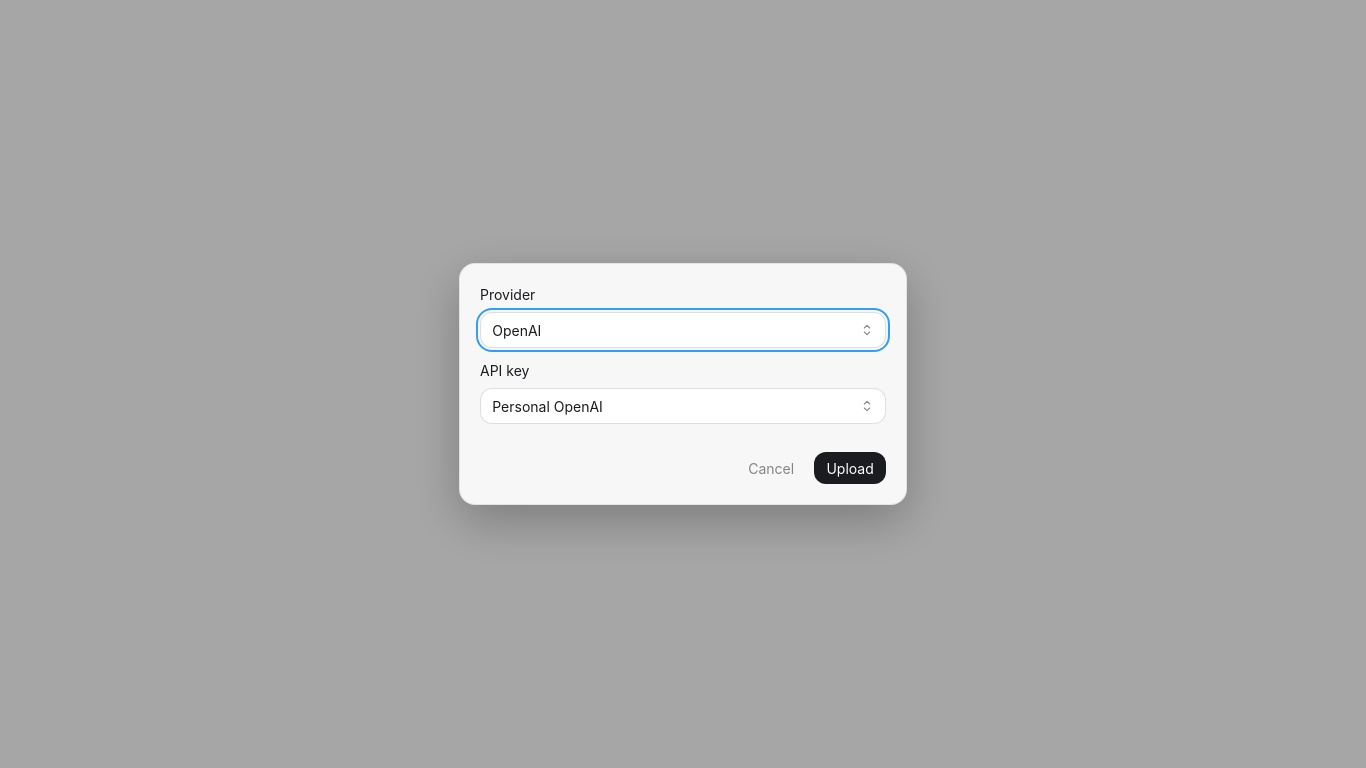
Test case: Folder store dialog › has an accessible name without a visible title and selects one key for either provider
This screenshot has width=1366, height=768.
Expected: the dialog named "Upload folder to store" does not show "Upload folder to store", 459,263 -> 907,505
Expected: the dropdown labelled "API key" shows "Personal OpenAI", 480,388 -> 886,424
Select "Google" in the dropdown labelled "Provider" at (683, 330), box 480,312 -> 886,348
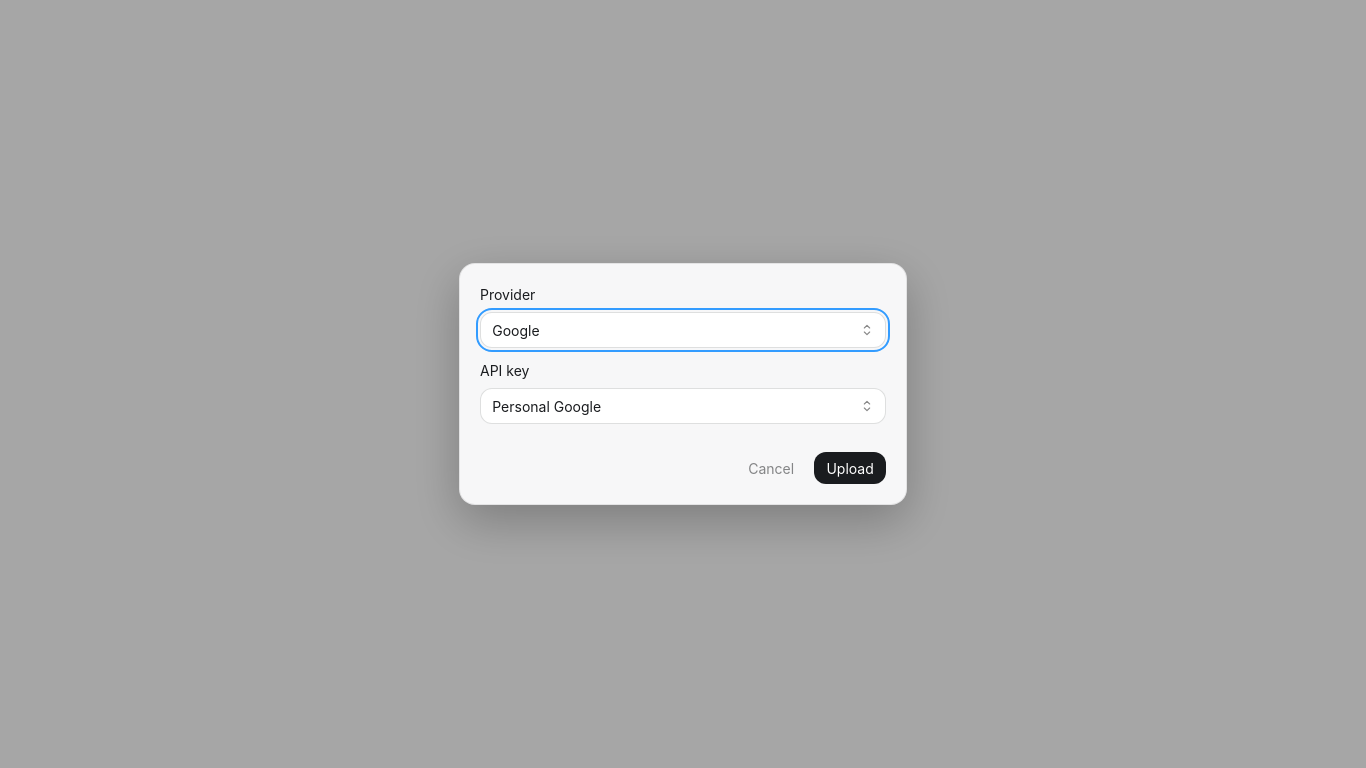
Result: the dropdown labelled "API key" shows "Personal Google" at 480,388 -> 886,424
